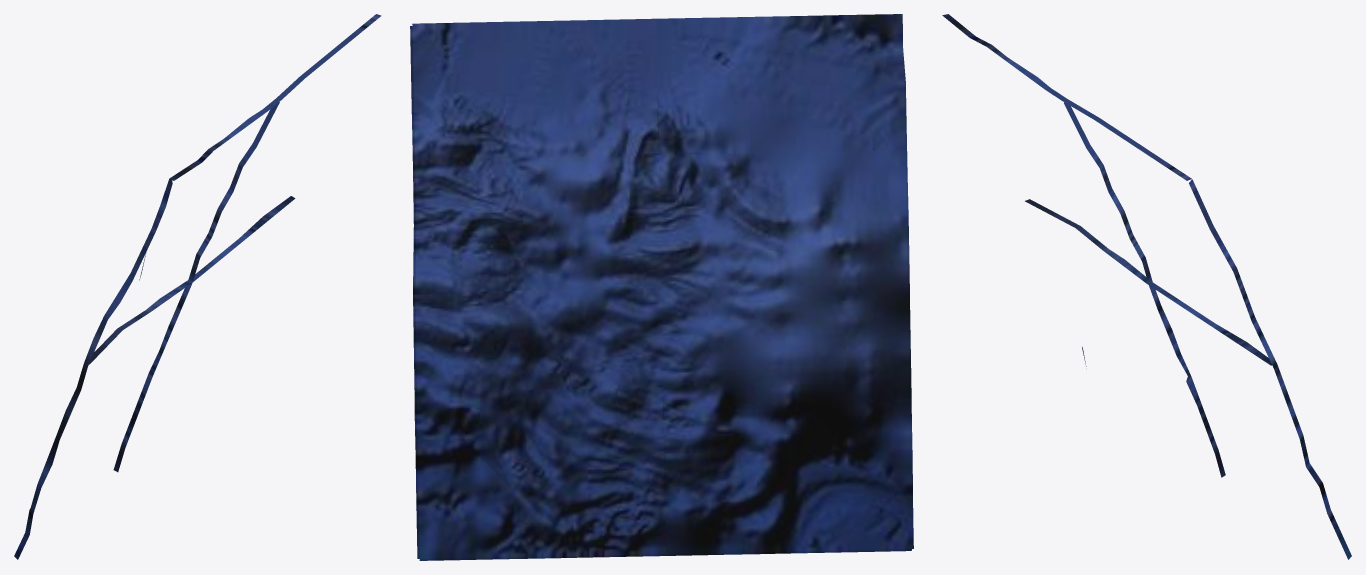
3 renders of one model, left to right at view 1: azimuth 30°, elevation 25°; view 2: azimuth 150°, elevation 25°; view 3: azimuth 270°, elevation 25°, orthographic. The views are drawn at different scales.
Size of the model in its own units: 76740 by 73803 by 64206.
1 material, 1 textured.
